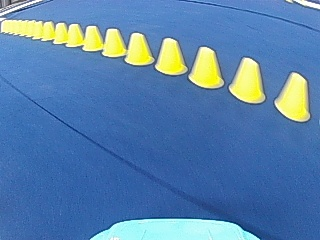cone: (228, 55, 266, 103), (274, 71, 310, 121), (189, 45, 224, 89), (155, 36, 187, 76), (125, 32, 154, 65), (102, 28, 126, 57), (82, 25, 103, 51), (66, 23, 84, 47), (53, 22, 68, 44), (42, 21, 55, 40), (32, 21, 42, 39)
